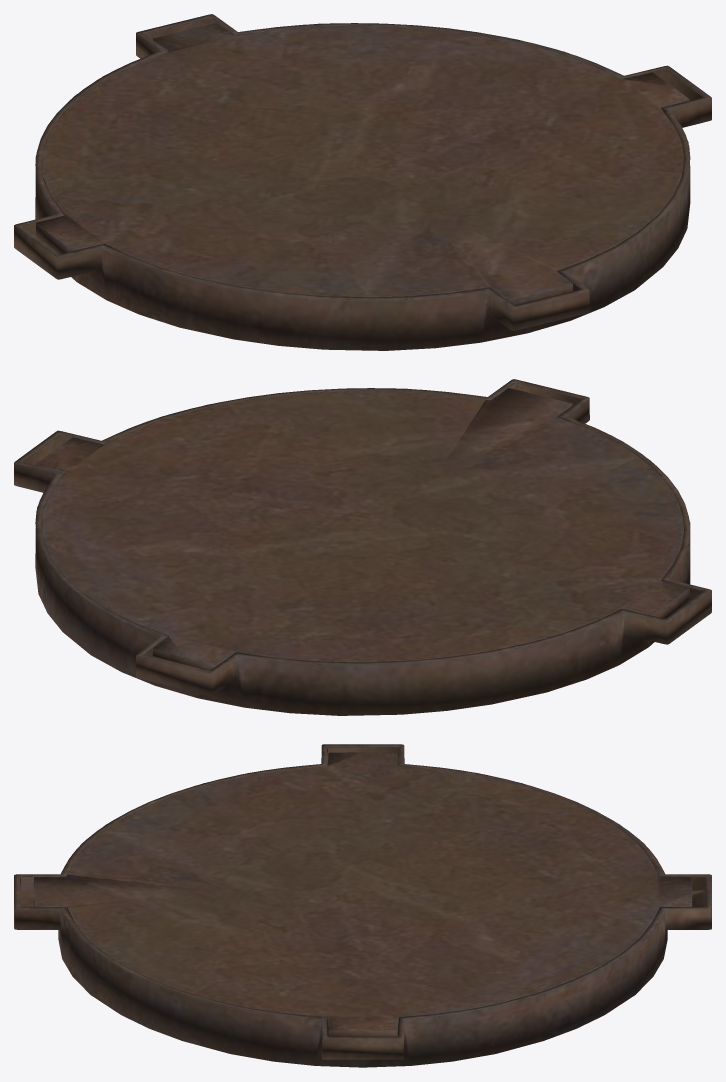
The model's file is manhole.glb.
The picture shows the model from 3 angles, top to bottom: view 1: azimuth 30°, elevation 25°; view 2: azimuth 150°, elevation 25°; view 3: azimuth 270°, elevation 25°; orthographic projection. The views are drawn at different scales.
Visible parts, largest first — view 1: manhole; view 2: manhole; view 3: manhole.
Part boxes in pixels (x1,y1,x2,y2): manhole: (14,14,711,350); manhole: (14,379,711,715); manhole: (14,744,711,1067).
Bounding box in the file's own units: 0.8023 × 0.06 × 0.8023.
2 materials, 2 textured.
